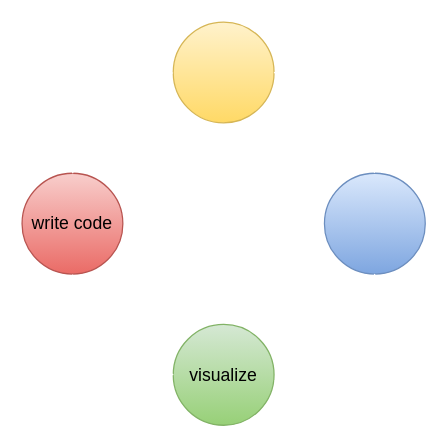
This 447x447 diagram has some shape labels left out. Each missing label, with the centre of its shape:
Load data: point 223,72
Run code: point 374,223
